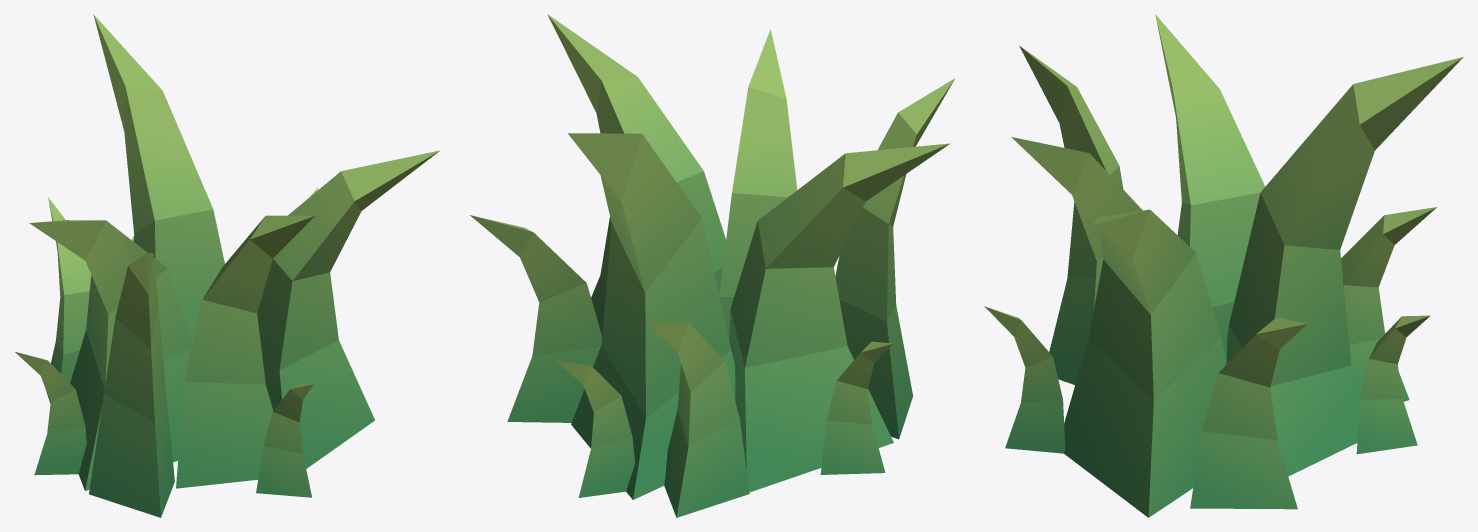
File: grassy.fbx
The picture shows the model from 3 angles, left to right: view 1: azimuth 30°, elevation 25°; view 2: azimuth 150°, elevation 25°; view 3: azimuth 270°, elevation 25°; orthographic projection. The views are drawn at different scales.
Visible parts, largest first — view 1: Cube.004; view 2: Cube.004; view 3: Cube.004.
Part boxes in pixels (x1,y1,x2,y2): Cube.004: [15, 14, 440, 517]; Cube.004: [470, 14, 955, 517]; Cube.004: [984, 14, 1463, 517].
Bounding box in the file's own units: 37.47 × 31.64 × 35.94.
